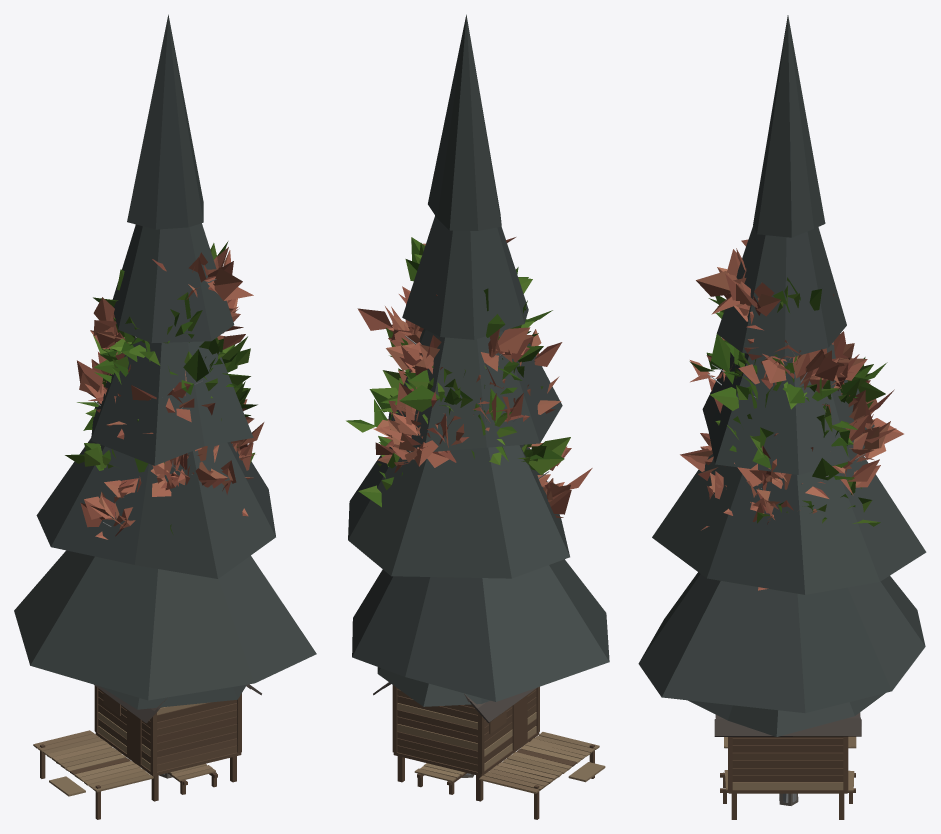
File: pale_marsh_lowpoly.glb
3 views of the same model, side by side, from view 1: azimuth 30°, elevation 25°; view 2: azimuth 150°, elevation 25°; view 3: azimuth 270°, elevation 25° (orthographic). The views are drawn at different scales.
Visible parts, largest first — view 1: PFir1, PHut, PTree4, PTree3, PTreeG0, PTree5, PTreeG1, PTreeG2, PFir0, PTree1, PTreeFar, PTree2 (+1 smaller); view 2: PFir1, PHut, PTree1, PTree4, PTreeG1, PTreeG2, PTree3, PTreeG0, PFir0, PTree5, PTreeFarG, PWalk; view 3: PFir1, PHut, PTree3, PTree1, PFir0, PTreeG1, PTreeG2, PTree4, PTreeG0, PTree2, PTree5, PTreeFarG (+1 smaller).
Part boxes in pixels (x1,y1,x2,y2): PFir1: (14, 14, 316, 778); PHut: (33, 684, 261, 819); PTree4: (90, 297, 264, 520); PTree3: (97, 247, 254, 775); PTreeG0: (77, 292, 257, 430); PTree5: (80, 384, 253, 539); PTreeG1: (93, 241, 250, 420); PTreeG2: (65, 336, 254, 774); PFir0: (100, 684, 246, 709); PTree1: (91, 252, 253, 516); PTreeFar: (77, 309, 238, 490); PTree2: (152, 439, 242, 488); PFir1: (348, 14, 609, 777); PHut: (373, 682, 605, 819); PTree1: (357, 304, 561, 467); PTree4: (386, 320, 571, 487); PTreeG1: (386, 237, 543, 414); PTreeG2: (358, 368, 570, 507); PTree3: (373, 228, 562, 775); PTreeG0: (369, 267, 552, 464); PFir0: (377, 667, 489, 706); PTree5: (375, 387, 592, 517); PTreeFarG: (346, 288, 531, 446); PWalk: (414, 763, 467, 794); PFir1: (638, 15, 926, 805); PHut: (714, 712, 861, 819); PTree3: (690, 239, 890, 802); PTree1: (701, 248, 903, 530); PFir0: (688, 693, 885, 736); PTreeG1: (689, 277, 887, 451); PTreeG2: (710, 365, 880, 802); PTree4: (688, 342, 867, 513); PTreeG0: (708, 296, 873, 468); PTree2: (680, 390, 874, 489); PTree5: (700, 441, 880, 590); PTreeFarG: (724, 351, 867, 512).
Bounding box in the file's own units: 8.78 × 25.58 × 8.47.
